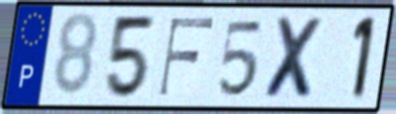1: (348, 14, 380, 104)
5: (101, 12, 164, 101), (216, 17, 267, 98)
8: (50, 10, 104, 102)
F: (156, 16, 218, 99)
X: (261, 14, 328, 103)
